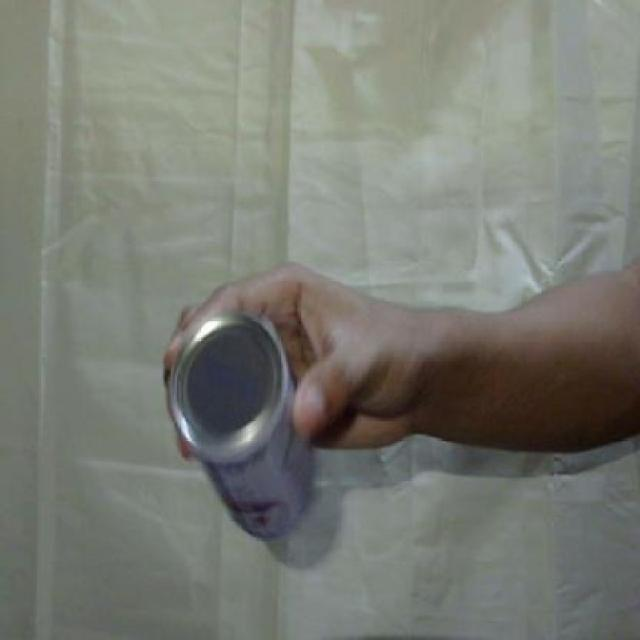Metal: (163, 299, 320, 572)
